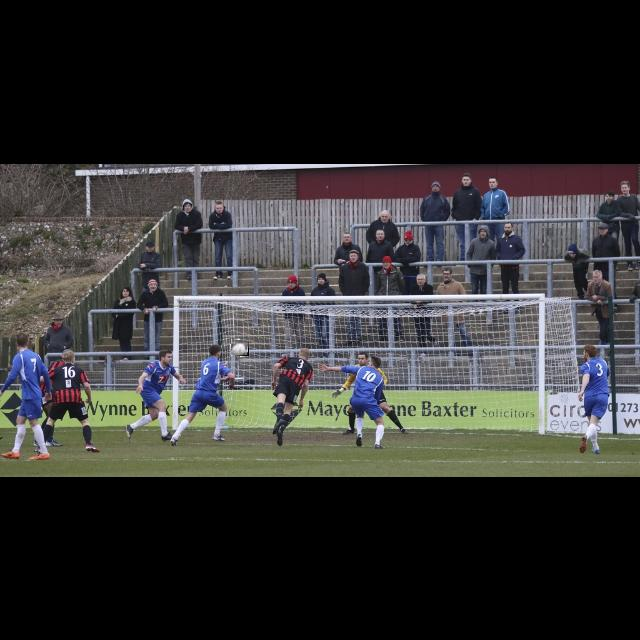Football: (231, 340, 249, 356)
